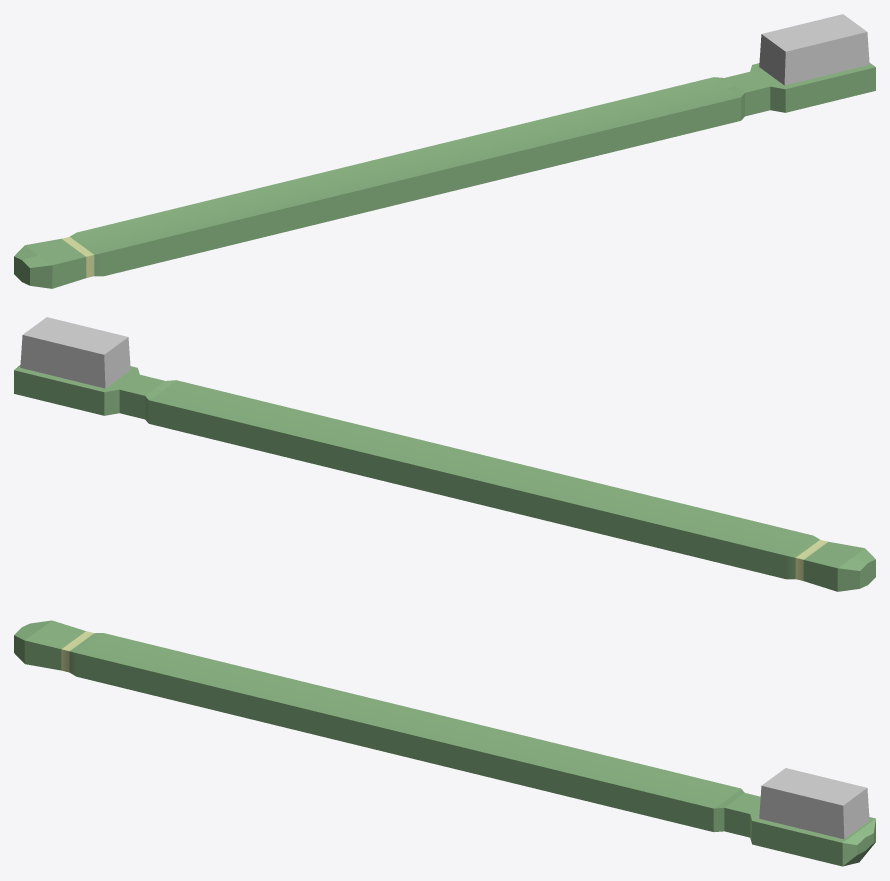
The model's file is Toothbrush.fbx.
3 renders of one model, top to bottom at view 1: azimuth 30°, elevation 25°; view 2: azimuth 150°, elevation 25°; view 3: azimuth 330°, elevation 25°, orthographic.
Visible parts, largest first — view 1: pCube1, pCube2; view 2: pCube1, pCube2; view 3: pCube1, pCube2.
Boxes of the visible parts, box(x1,y1,x2,y2) form: pCube1: box(14, 63, 875, 288); pCube2: box(759, 14, 869, 85); pCube1: box(14, 365, 875, 591); pCube2: box(20, 317, 130, 388); pCube1: box(14, 620, 875, 866); pCube2: box(759, 768, 869, 839).
Bounding box in the file's own units: 9.76 × 0.7157 × 0.6689.
